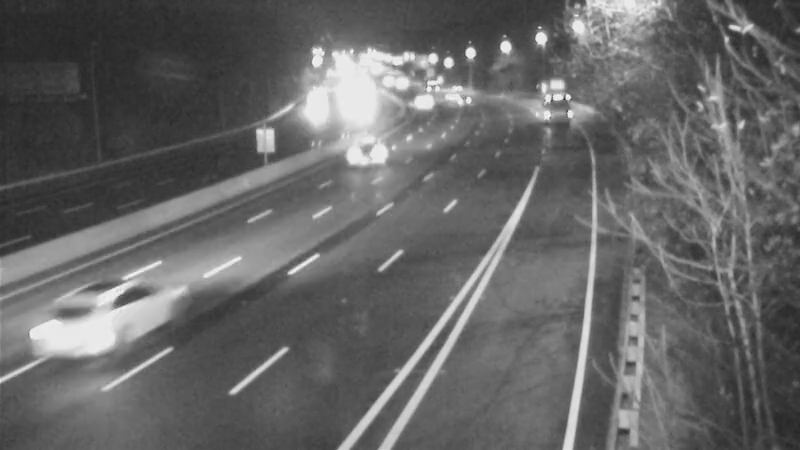vehicle: (38, 270, 148, 380), (432, 65, 482, 115), (423, 75, 473, 125), (440, 75, 490, 125), (525, 78, 575, 128), (352, 124, 402, 174), (282, 75, 332, 125)
